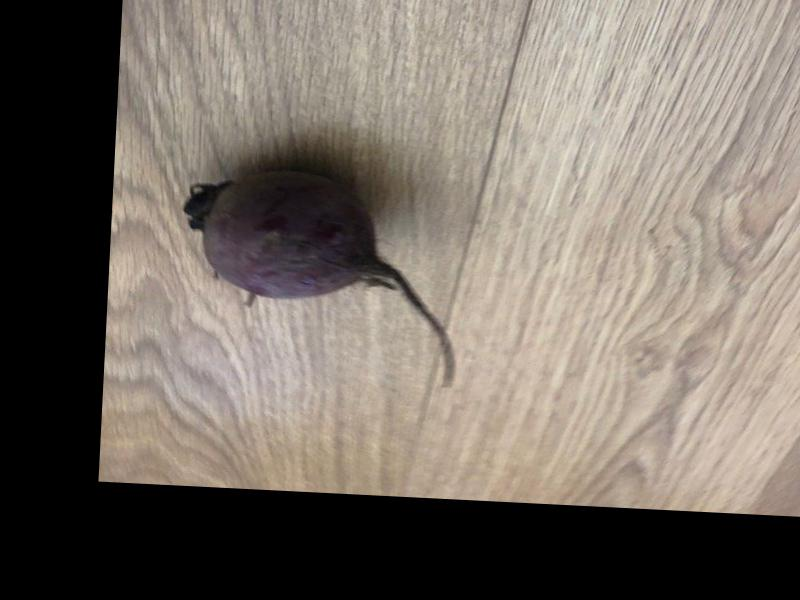Beet: (180, 164, 469, 387)
